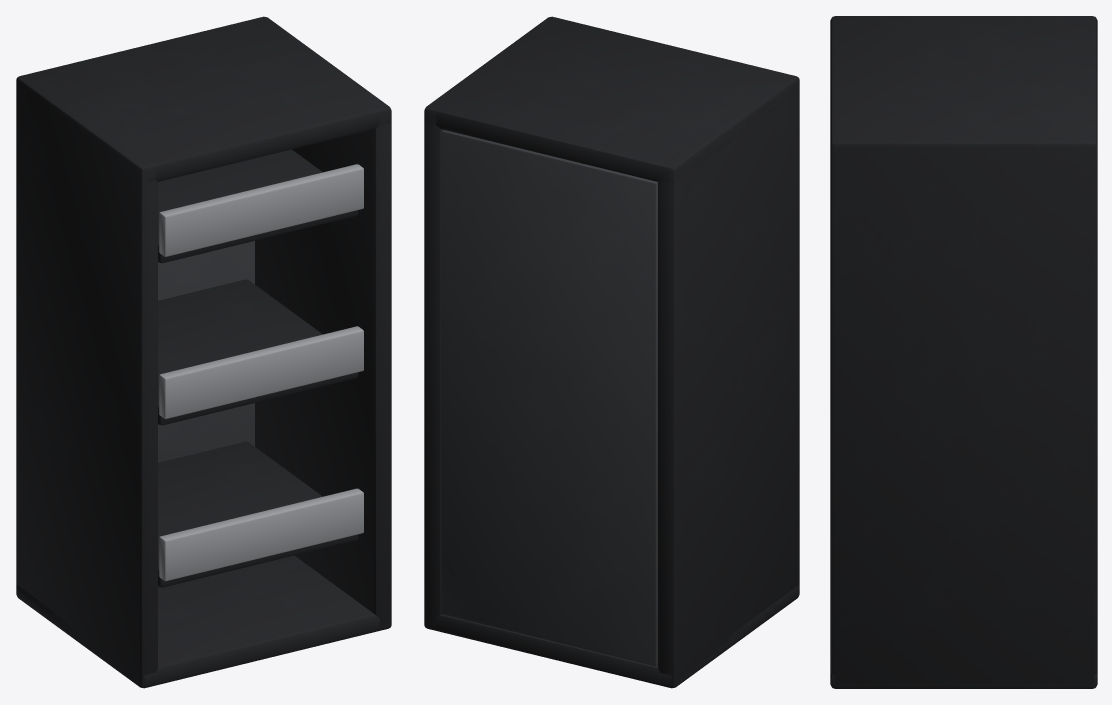
The model's file is pf_display_impulse_shelf_t1.glb.
The picture shows the model from 3 angles, left to right: view 1: azimuth 30°, elevation 25°; view 2: azimuth 150°, elevation 25°; view 3: azimuth 270°, elevation 25°; orthographic projection. The views are drawn at different scales.
Parts seen in each view (by area): view 1: Case_Left, Case_Right, Case_Top, Case_Base, Shelf_01, Shelf_02, Shelf_Lip_03, Shelf_Lip_01, Shelf_Lip_02, Case_Back, Shelf_03; view 2: Case_Back, Case_Left, Case_Top, Case_Right, Case_Base; view 3: Case_Right, Case_Top, Case_Base.
Boxes of the visible parts, <box> form: Case_Left: <box>16,78,157,687</box>; Case_Right: <box>255,96,391,630</box>; Case_Top: <box>16,16,390,181</box>; Case_Base: <box>16,555,390,688</box>; Shelf_01: <box>158,441,358,587</box>; Shelf_02: <box>158,279,358,425</box>; Shelf_Lip_03: <box>159,164,363,256</box>; Shelf_Lip_01: <box>159,488,363,581</box>; Shelf_Lip_02: <box>159,326,363,418</box>; Case_Back: <box>158,241,254,462</box>; Shelf_03: <box>158,149,358,263</box>; Case_Back: <box>441,129,657,665</box>; Case_Left: <box>658,78,799,687</box>; Case_Top: <box>424,16,799,182</box>; Case_Right: <box>424,91,454,630</box>; Case_Base: <box>424,585,799,688</box>; Case_Right: <box>830,136,1097,688</box>; Case_Top: <box>830,16,1097,156</box>; Case_Base: <box>830,673,1097,688</box>.
Size of the model in its own units: 0.48 by 0.95 by 0.42.
4 materials, 2 textured.
